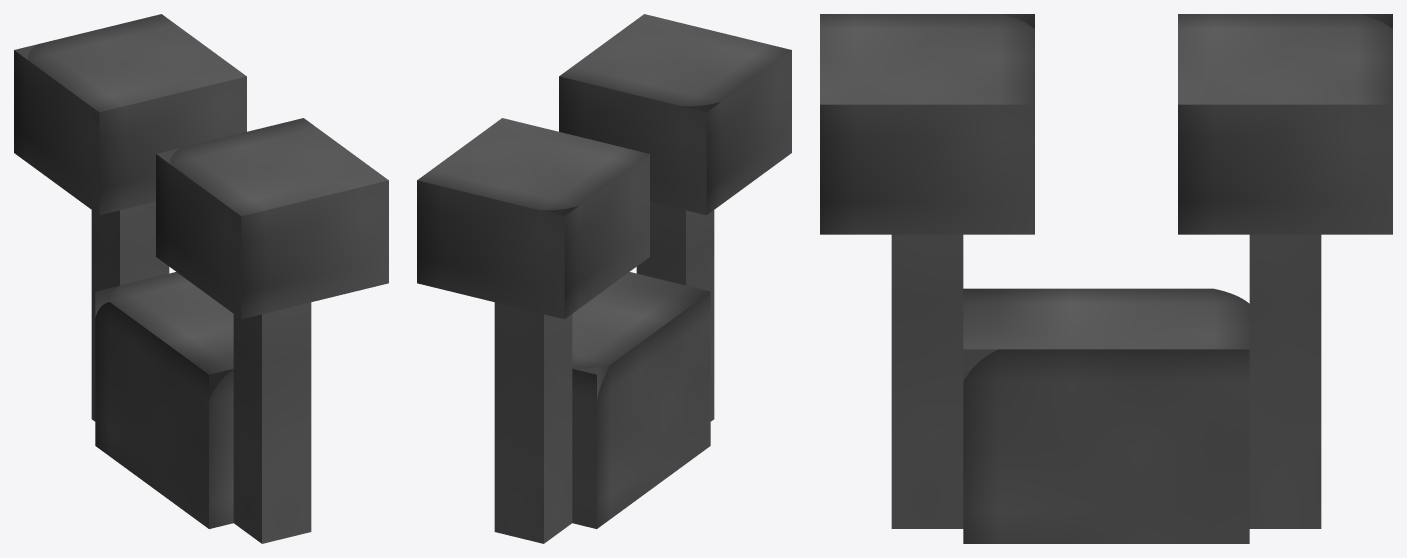
The model's file is top.obj.
3 views of the same model, side by side, from view 1: azimuth 30°, elevation 25°; view 2: azimuth 150°, elevation 25°; view 3: azimuth 270°, elevation 25° (orthographic). The views are drawn at different scales.
Visible parts, largest first — view 1: cube; view 2: cube; view 3: cube.
Boxes of the visible parts, left/top/right/bottom form: cube: left=14, top=14, right=388, bottom=543; cube: left=417, top=14, right=791, bottom=543; cube: left=820, top=14, right=1392, bottom=543.
Size of the model in its own units: 0.1875 by 0.4375 by 0.5.
